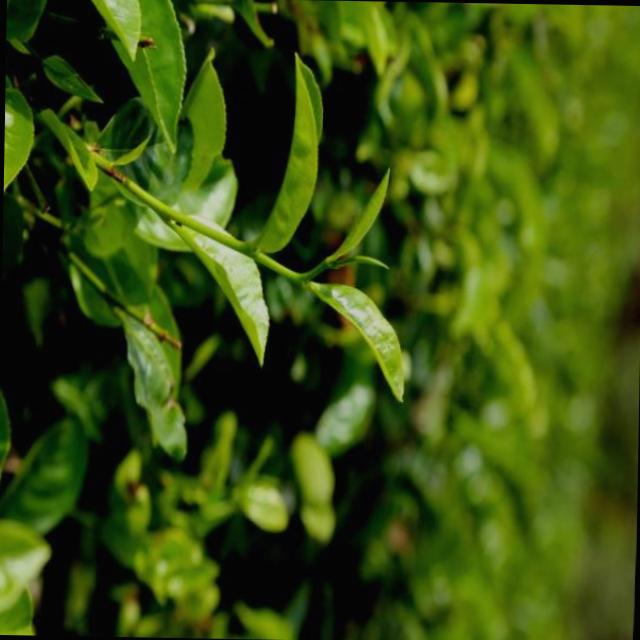Stem: (293, 274, 307, 284)
